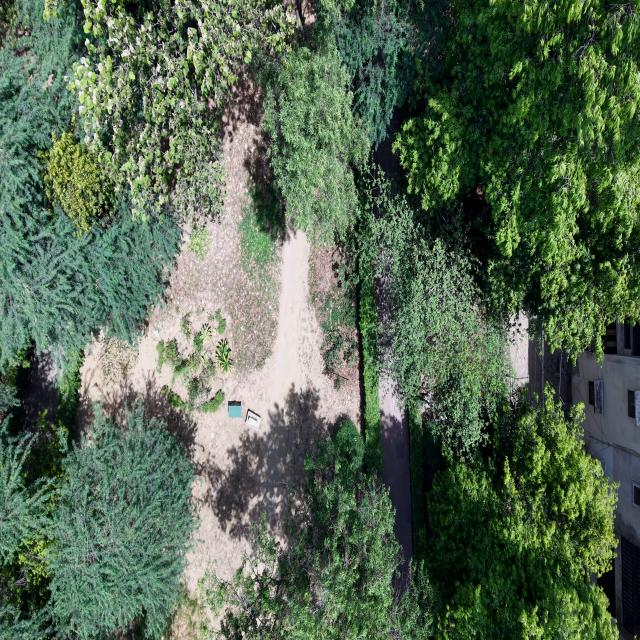DRY_AREA: (77, 110, 359, 593), (379, 379, 412, 575), (379, 380, 412, 575), (22, 352, 59, 431), (509, 314, 529, 385)
VEGETATION_TREE: (0, 0, 639, 639), (0, 1, 293, 364), (201, 390, 617, 639), (202, 397, 616, 639), (397, 1, 639, 359), (0, 2, 180, 369), (0, 354, 197, 639), (201, 420, 430, 639), (417, 390, 617, 639), (69, 0, 293, 217), (259, 0, 443, 244), (359, 176, 510, 454), (47, 405, 196, 639), (0, 198, 180, 366), (262, 24, 368, 243), (0, 352, 67, 639), (0, 1, 82, 217), (222, 137, 293, 369), (333, 0, 416, 144), (0, 416, 51, 639), (0, 383, 51, 562), (309, 236, 358, 390), (157, 314, 233, 412), (44, 130, 114, 234), (238, 141, 287, 279), (157, 324, 216, 411), (359, 274, 381, 469), (239, 183, 280, 278), (0, 571, 50, 639), (408, 405, 430, 558), (56, 350, 83, 445), (161, 586, 205, 639), (323, 331, 356, 391), (98, 338, 138, 383), (157, 338, 184, 383), (172, 351, 201, 385), (161, 385, 193, 411), (0, 377, 20, 418), (187, 376, 210, 411), (189, 223, 210, 260), (215, 338, 235, 376), (157, 338, 180, 371), (161, 384, 186, 409), (197, 389, 224, 412), (0, 1, 15, 36), (180, 314, 192, 342), (156, 340, 165, 372), (215, 308, 226, 334), (194, 329, 204, 354), (200, 323, 212, 343), (217, 318, 227, 336), (215, 308, 223, 324)
